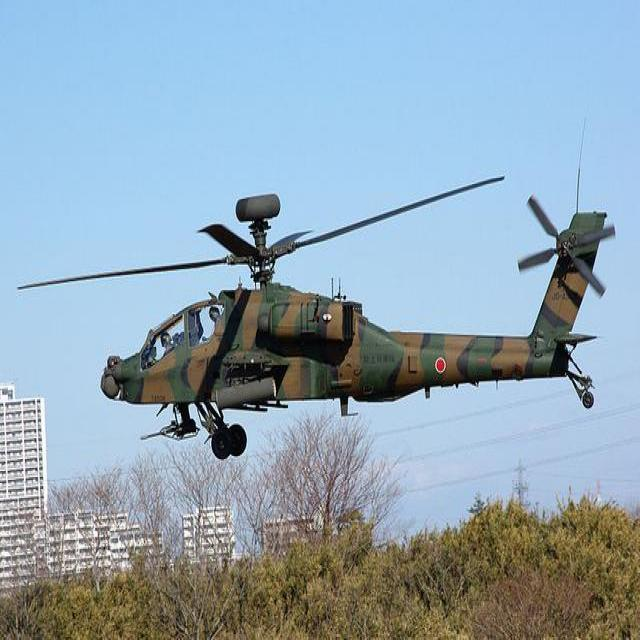MIL_HELO: (4, 167, 640, 480)
